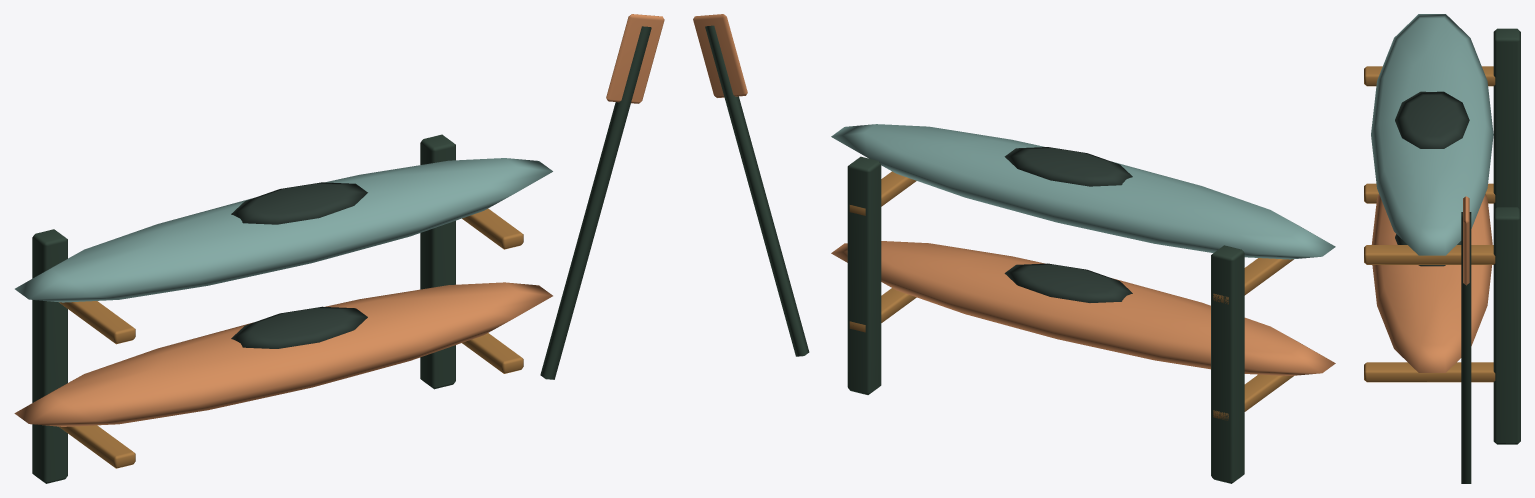
Rendered from kayak_rack.glb.
3 renders of one model, left to right at view 1: azimuth 30°, elevation 25°; view 2: azimuth 150°, elevation 25°; view 3: azimuth 270°, elevation 25°, orthographic. The views are drawn at different scales.
Parts seen in each view (by area): view 1: Kayak0.63, Kayak0.25, Post-0.62, PaddleShaft, Post0.62, Cockpit0.63, Cockpit0.25, PaddleBlade, Arm-0.62_0.2, Arm-0.62_0.58, Arm0.62_0.58, Arm0.62_0.2; view 2: Kayak0.63, Kayak0.25, Post0.62, Post-0.62, PaddleShaft, Cockpit0.63, Cockpit0.25, PaddleBlade, Arm-0.62_0.2, Arm-0.62_0.58, Arm0.62_0.2, Arm0.62_0.58; view 3: Kayak0.63, Kayak0.25, Post0.62, Post-0.62, Cockpit0.63, PaddleShaft, Arm0.62_0.2, Arm0.62_0.58, PaddleBlade, Arm-0.62_0.58, Arm-0.62_0.2.
Part boxes in pixels (x1,y1,x2,y2): Kayak0.63: [15, 158, 552, 302]; Kayak0.25: [14, 282, 552, 426]; Post-0.62: [32, 229, 67, 483]; PaddleShaft: [540, 26, 651, 379]; Post0.62: [420, 134, 455, 389]; Cockpit0.63: [231, 182, 367, 224]; Cockpit0.25: [231, 306, 367, 348]; PaddleBlade: [606, 14, 664, 103]; Arm-0.62_0.2: [59, 425, 135, 468]; Arm-0.62_0.58: [59, 301, 135, 344]; Arm0.62_0.58: [462, 208, 523, 249]; Arm0.62_0.2: [462, 333, 523, 373]; Kayak0.63: [831, 124, 1335, 259]; Kayak0.25: [831, 241, 1335, 375]; Post0.62: [847, 156, 881, 394]; Post-0.62: [1211, 245, 1244, 483]; PaddleShaft: [705, 25, 809, 356]; Cockpit0.63: [1004, 147, 1132, 186]; Cockpit0.25: [1004, 263, 1132, 302]; PaddleBlade: [693, 14, 747, 97]; Arm-0.62_0.2: [1213, 374, 1293, 420]; Arm-0.62_0.58: [1213, 258, 1293, 304]; Arm0.62_0.2: [849, 288, 916, 332]; Arm0.62_0.58: [849, 171, 916, 215]; Kayak0.63: [1371, 14, 1493, 255]; Kayak0.25: [1371, 194, 1492, 372]; Post0.62: [1493, 207, 1520, 444]; Post-0.62: [1493, 28, 1520, 209]; Cockpit0.63: [1395, 91, 1469, 148]; PaddleShaft: [1461, 212, 1471, 483]; Arm0.62_0.2: [1364, 362, 1495, 382]; Arm0.62_0.58: [1364, 245, 1495, 264]; PaddleBlade: [1463, 196, 1469, 285]; Arm-0.62_0.58: [1364, 66, 1495, 86]; Arm-0.62_0.2: [1364, 183, 1495, 203].
Bounding box in the file's own units: 2.11 × 1.05 × 0.46.
